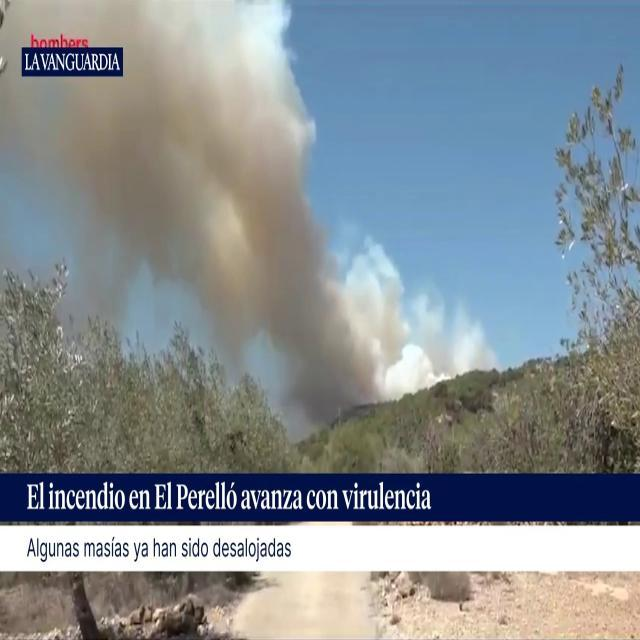Smoke: (1, 0, 466, 441)
